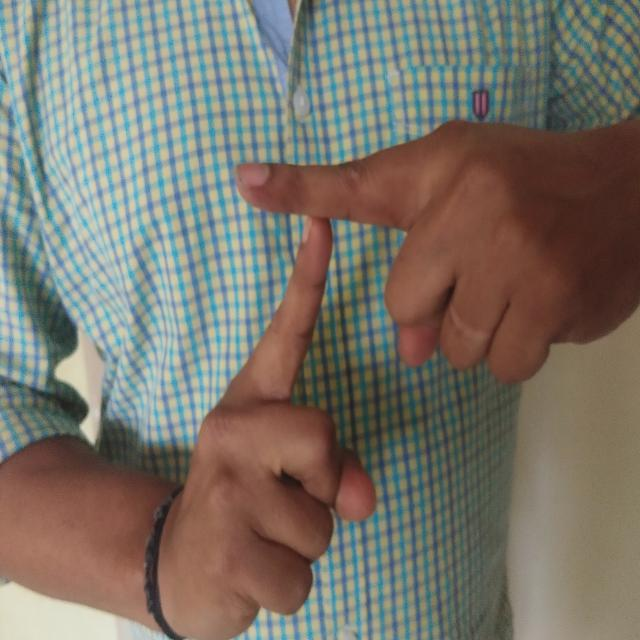T: (168, 96, 611, 640)
